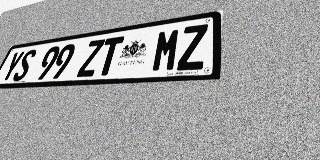9: (49, 43, 77, 79), (34, 45, 62, 80)
M: (151, 28, 182, 72)
S: (11, 49, 38, 81)
T: (95, 36, 125, 76)
Y: (0, 51, 26, 82)
Z: (177, 24, 208, 71), (76, 39, 106, 77)
